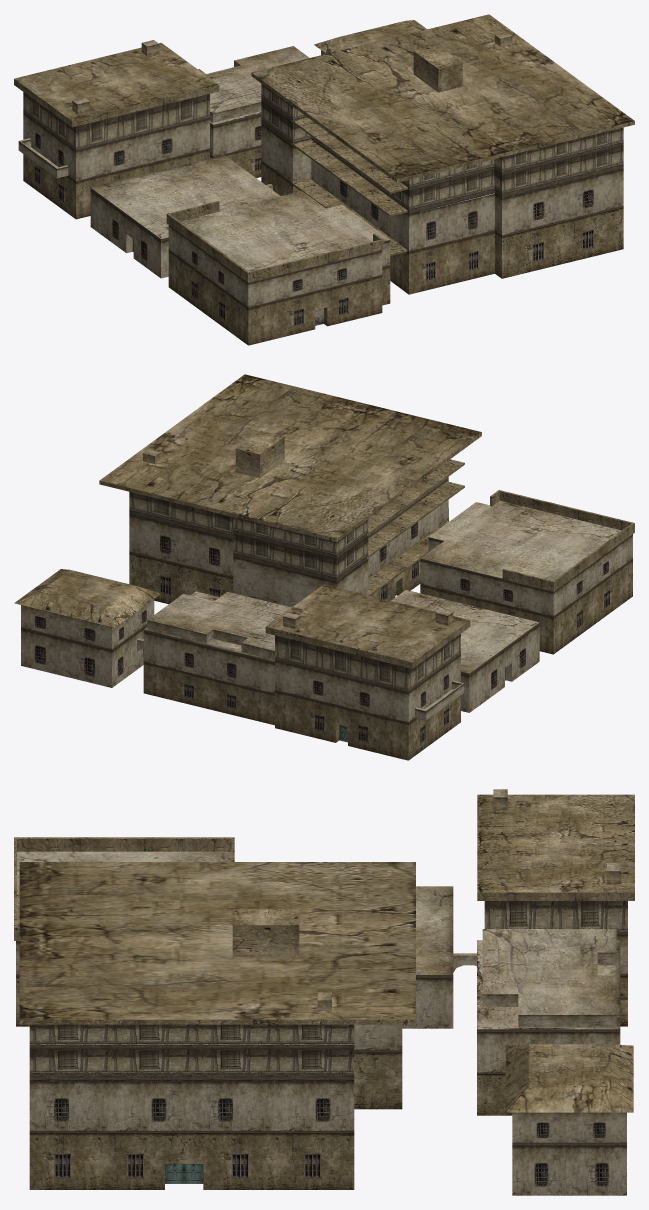
The model's file is mogblk01.glb.
The picture shows the model from 3 angles, top to bottom: view 1: azimuth 30°, elevation 25°; view 2: azimuth 150°, elevation 25°; view 3: azimuth 270°, elevation 25°; orthographic projection. The views are drawn at different scales.
Visible parts, largest first — view 1: _mogblk01; view 2: _mogblk01; view 3: _mogblk01.
Part boxes in pixels (box(x1,y1,x2,y2)): _mogblk01: box(14, 14, 634, 345); _mogblk01: box(14, 374, 634, 760); _mogblk01: box(14, 789, 634, 1195).
Bounding box in the file's own units: 66.46 × 23.96 × 65.
Materials: 2 (2 with a texture image).
